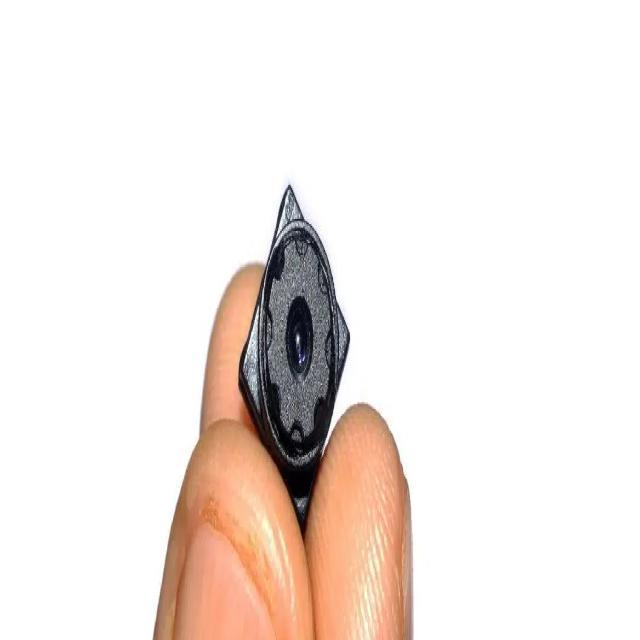hidden camera: (285, 294, 312, 379)
